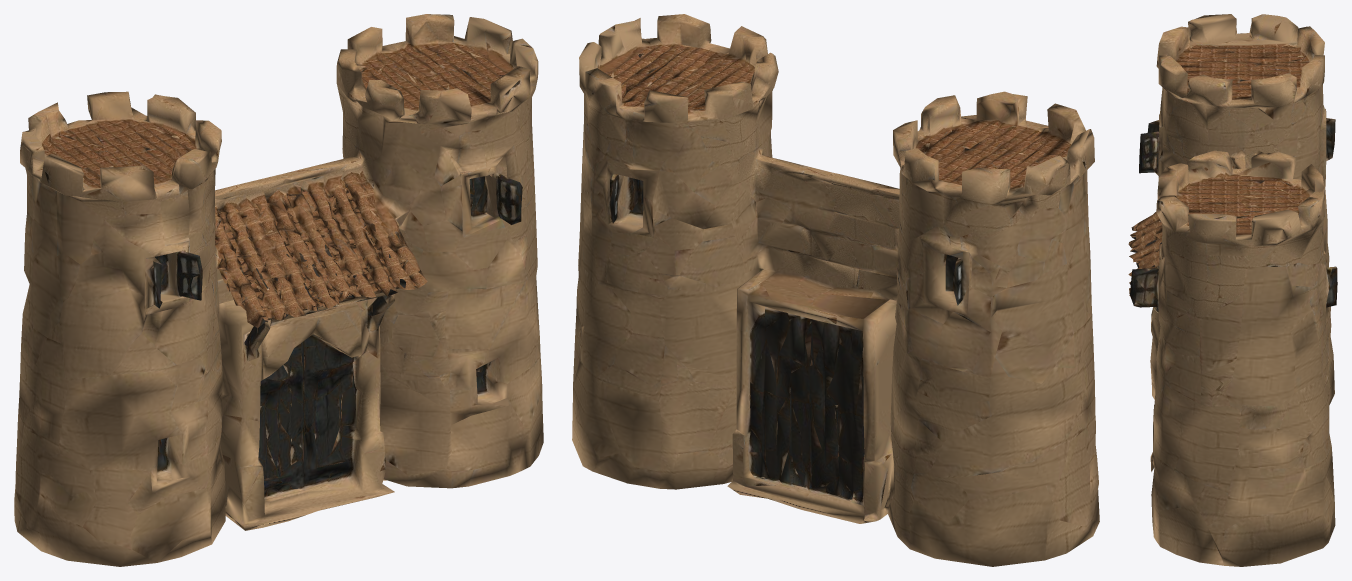
Rendered from gatehouse.glb.
3 renders of one model, left to right at view 1: azimuth 30°, elevation 25°; view 2: azimuth 150°, elevation 25°; view 3: azimuth 270°, elevation 25°, orthographic. The views are drawn at different scales.
Bounding box in the file's own units: 1.9 × 1.41 × 0.779.
Materials: 1 (1 with a texture image).
